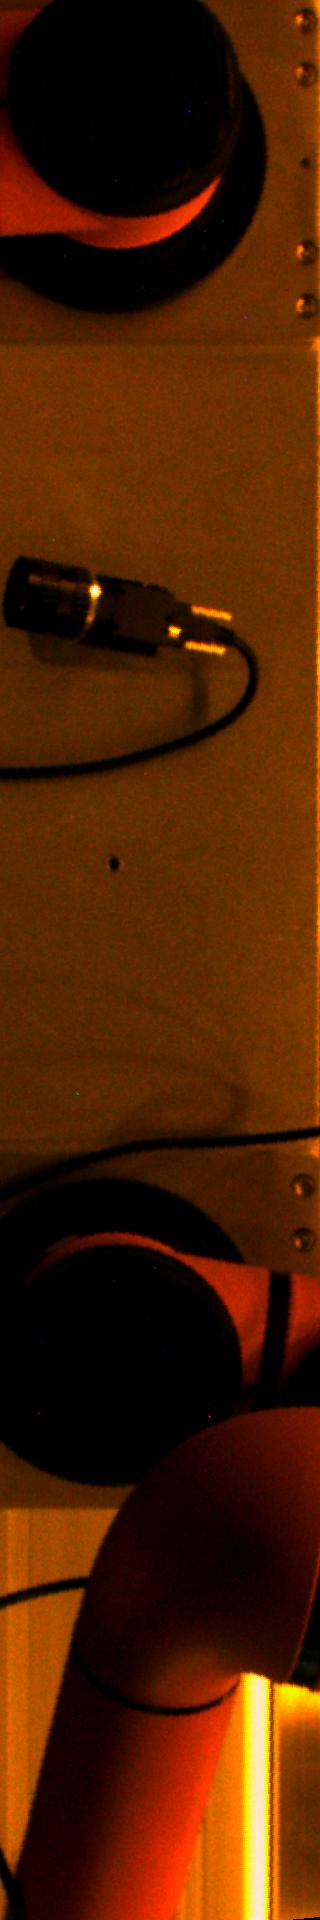keyPoint_2: (98, 849, 128, 879)
